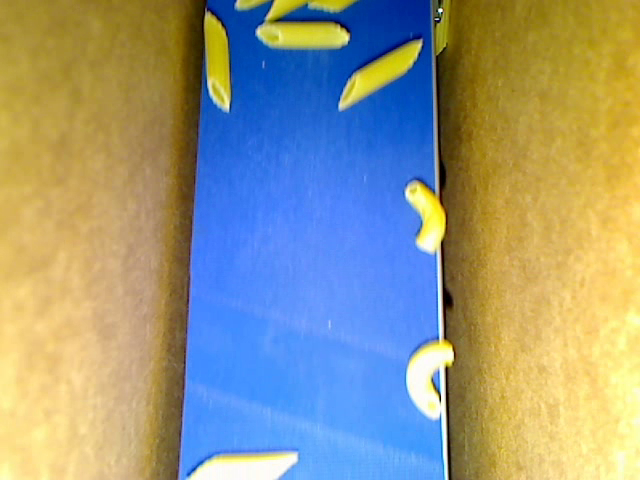elbow: (405, 339, 455, 419), (401, 178, 448, 254)
penne: (337, 36, 423, 109), (200, 8, 233, 114), (250, 20, 353, 51), (186, 450, 300, 477), (435, 1, 456, 49)
